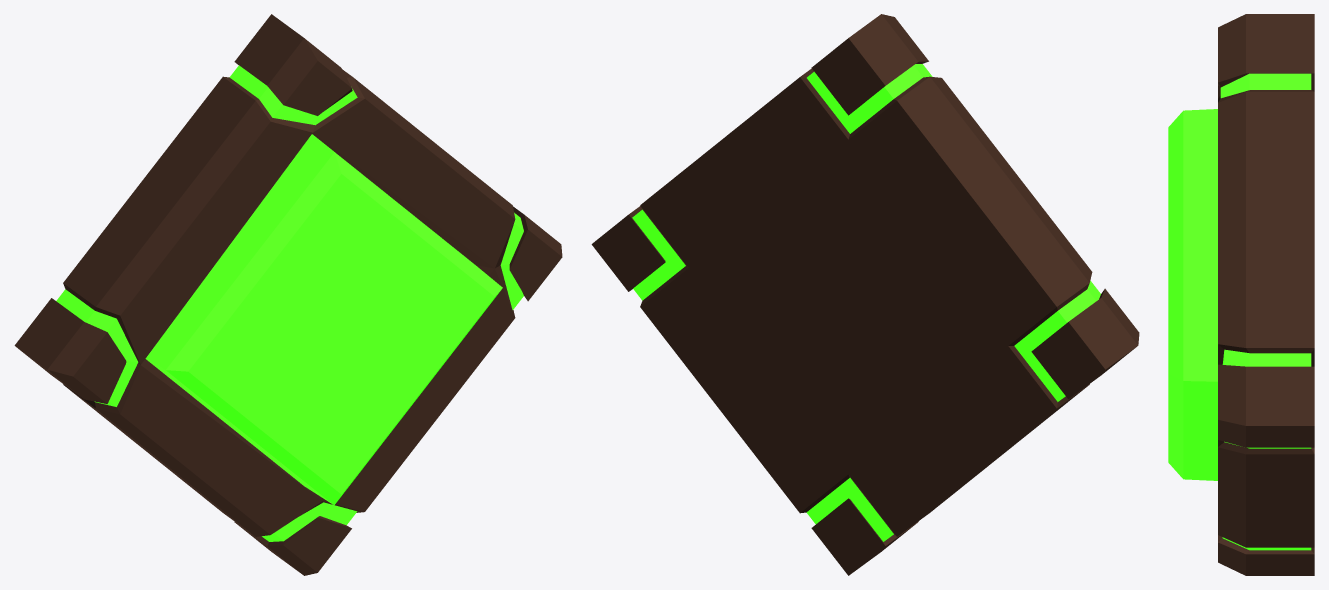
Rendered from Interrupteur_Active.fbx.
3 renders of one model, left to right at view 1: azimuth 30°, elevation 25°; view 2: azimuth 150°, elevation 25°; view 3: azimuth 270°, elevation 25°, orthographic. The views are drawn at different scales.
Parts seen in each view (by area): view 1: Interrupteur_Desactive.001; view 2: Interrupteur_Desactive.001; view 3: Interrupteur_Desactive.001.
Part boxes in pixels (<box>): Interrupteur_Desactive.001: <box>14,14,562,575</box>; Interrupteur_Desactive.001: <box>591,14,1139,575</box>; Interrupteur_Desactive.001: <box>1168,14,1314,575</box>.
Bounding box in the file's own units: 32.09 × 32.09 × 7.58.
